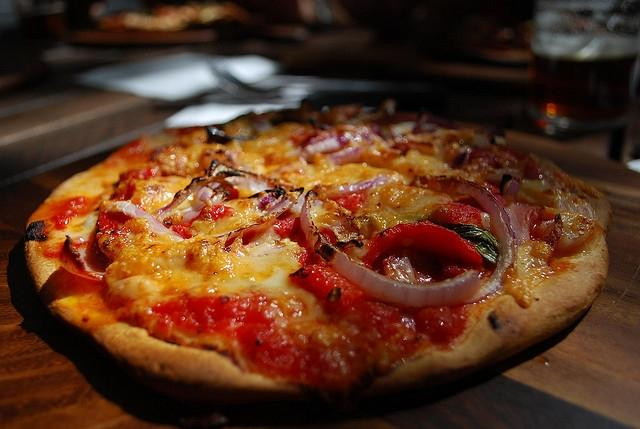onion: (298, 173, 481, 306), (456, 180, 517, 304), (105, 201, 183, 243), (504, 202, 544, 246), (322, 176, 388, 200), (224, 176, 273, 198), (304, 138, 342, 155), (412, 114, 438, 136), (328, 147, 362, 161), (503, 180, 521, 202), (258, 192, 276, 211), (266, 196, 285, 214)
